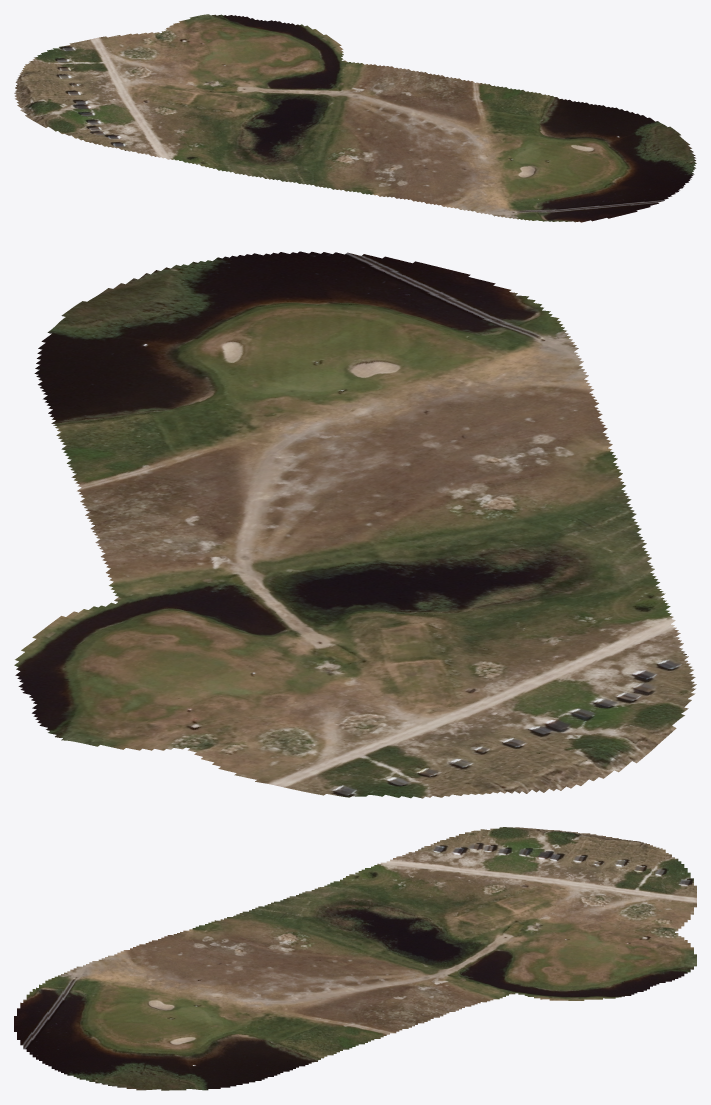
The model's file is flommen_7.glb.
The picture shows the model from 3 angles, top to bottom: view 1: azimuth 30°, elevation 25°; view 2: azimuth 150°, elevation 25°; view 3: azimuth 270°, elevation 25°; orthographic projection. The views are drawn at different scales.
Visible parts, largest first — view 1: ground; view 2: ground; view 3: ground.
Part boxes in pixels (<box>): ground: <box>14,14,696,222</box>; ground: <box>14,251,696,798</box>; ground: <box>14,827,696,1090</box>.
Bounding box in the file's own units: 194 × 3.61 × 218.
Materials: 1 (1 with a texture image).
